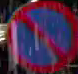No Stopping: (3, 0, 77, 73)
